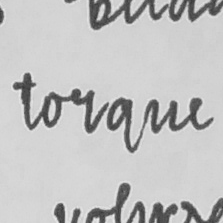e: (186, 95, 217, 133)
o: (40, 90, 64, 131)
q: (104, 94, 137, 155)
r: (67, 85, 97, 135)
t: (11, 71, 39, 132)
u: (147, 97, 180, 135)
